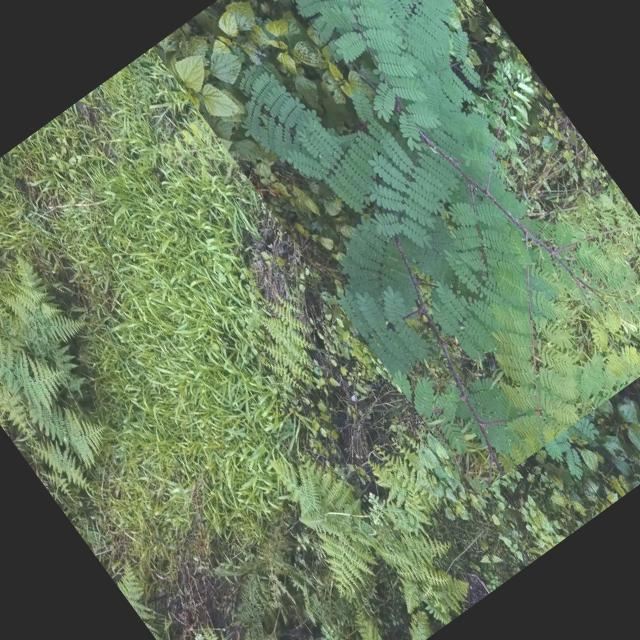Mysore-Thorn-Weed: (152, 0, 640, 494)
